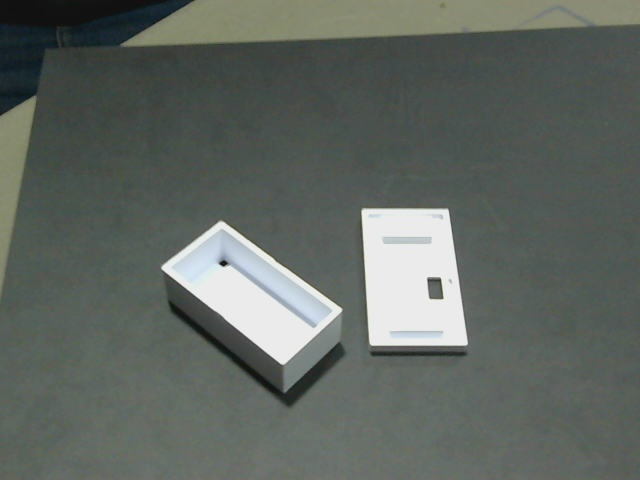enclosure_good: (163, 222, 341, 364), (362, 209, 467, 346)
